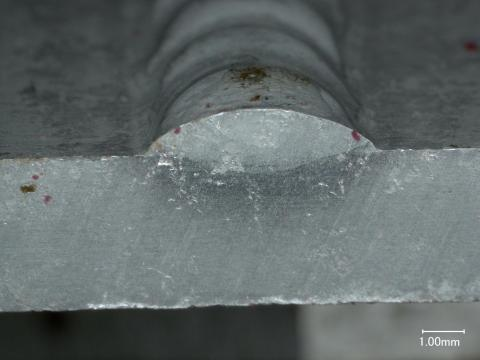test: (146, 108, 378, 154)
